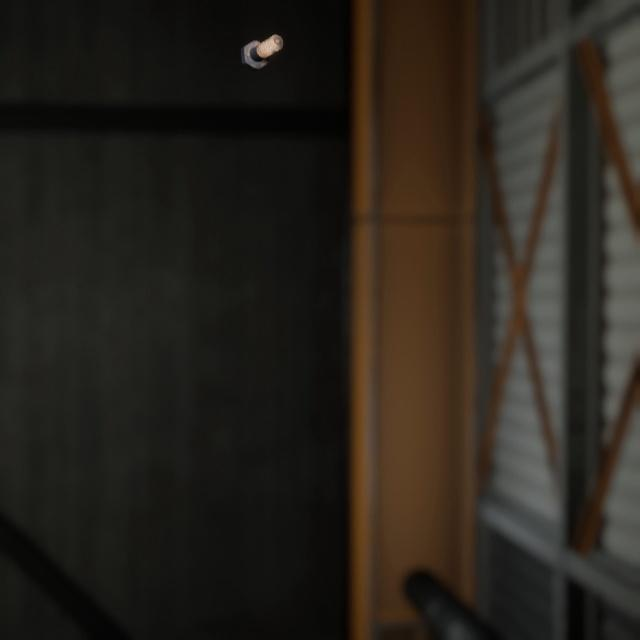bolt: (236, 20, 287, 65)
